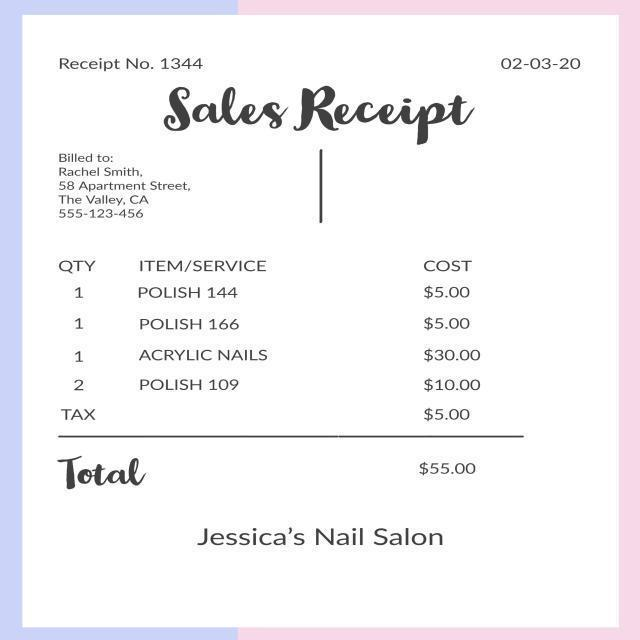paragraph: (157, 75, 493, 148), (44, 443, 484, 490), (47, 151, 197, 225), (54, 404, 477, 425), (179, 521, 464, 551), (47, 47, 212, 73), (496, 53, 586, 74)
table: (45, 248, 505, 398)
